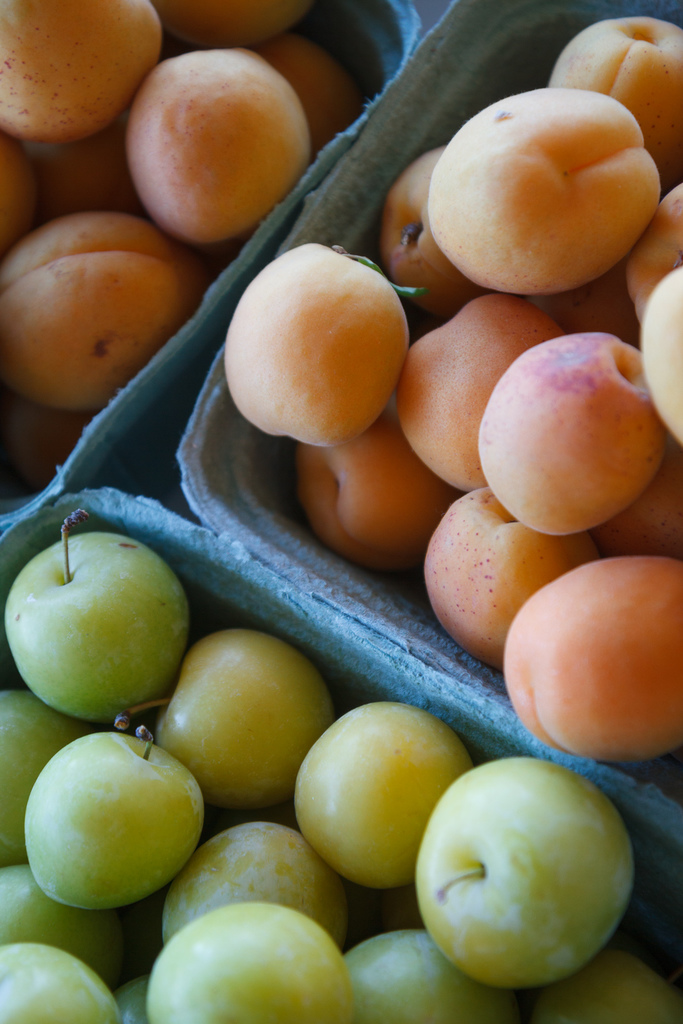Apple: (0, 506, 682, 1023), (416, 753, 642, 998)
